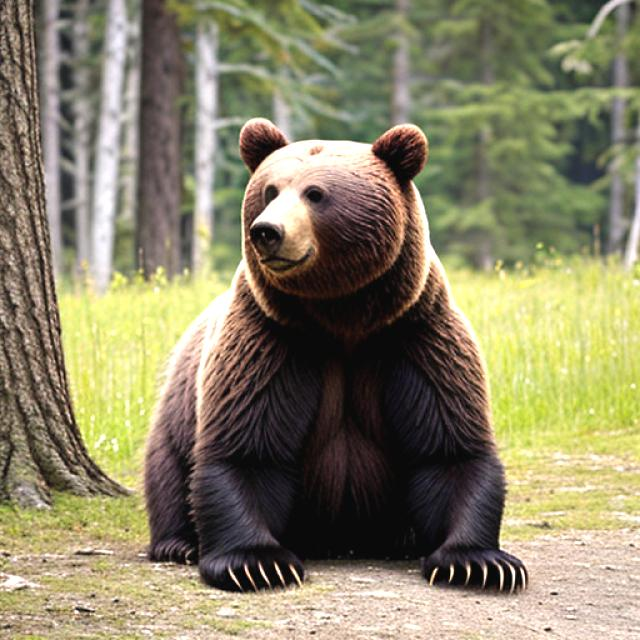bear: (148, 103, 540, 582)
